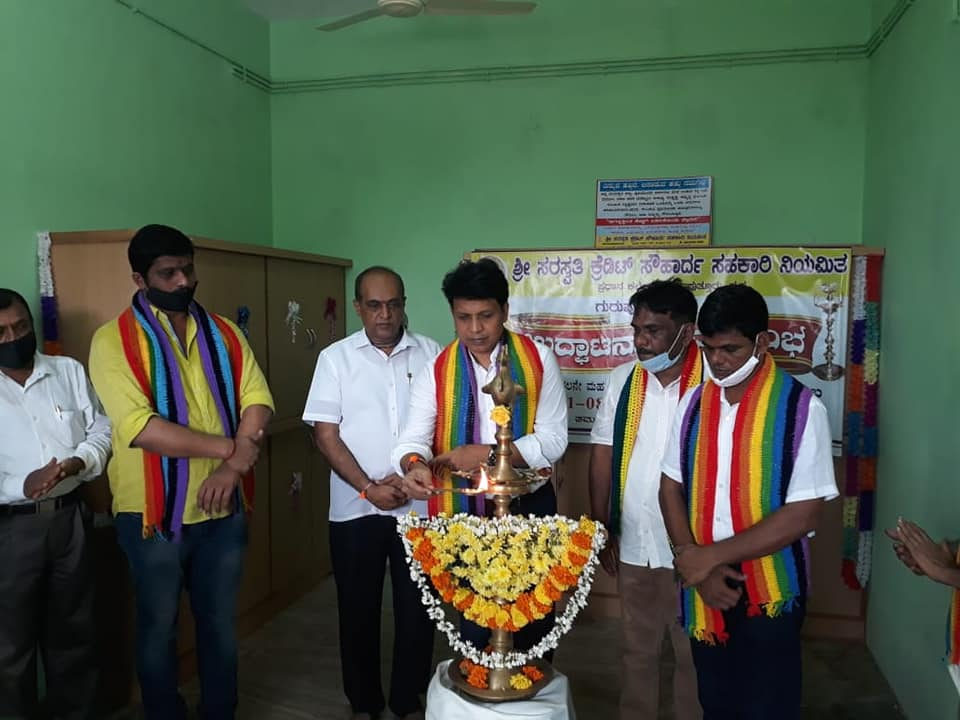mouth: (466, 336, 486, 344), (636, 350, 653, 359), (375, 322, 391, 330), (709, 369, 728, 375)
nose: (467, 326, 482, 334), (710, 357, 725, 365), (377, 313, 390, 320), (634, 339, 646, 346), (176, 280, 188, 286)
